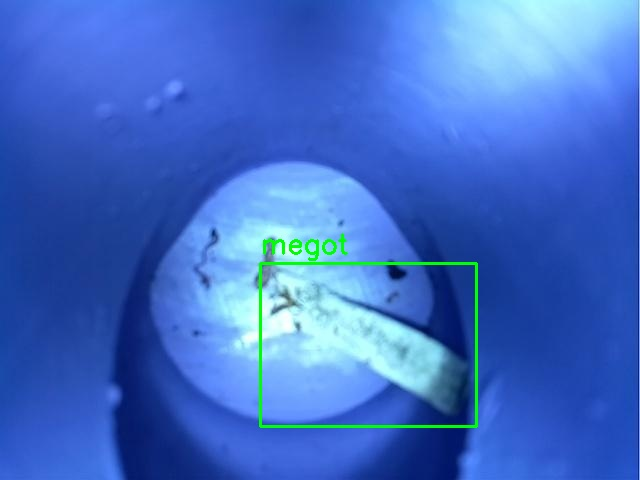megot: (260, 263, 476, 426)
